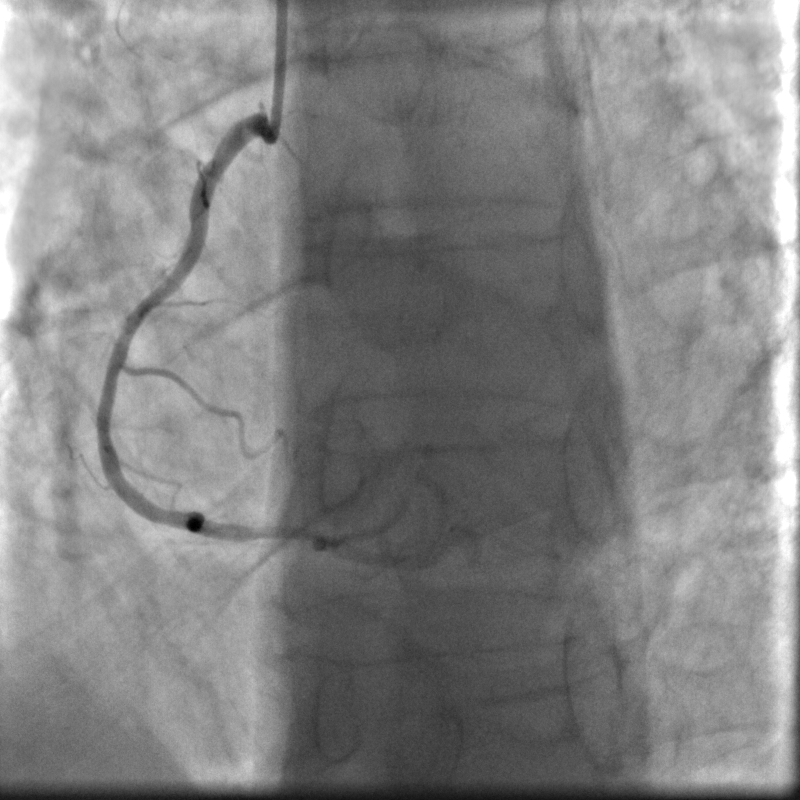Stenosis: (201, 492, 318, 560)
